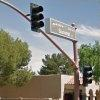traffic lights: (30, 3, 46, 32)
